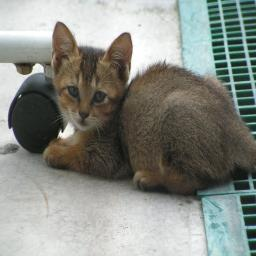catnose: (78, 110, 90, 120)
